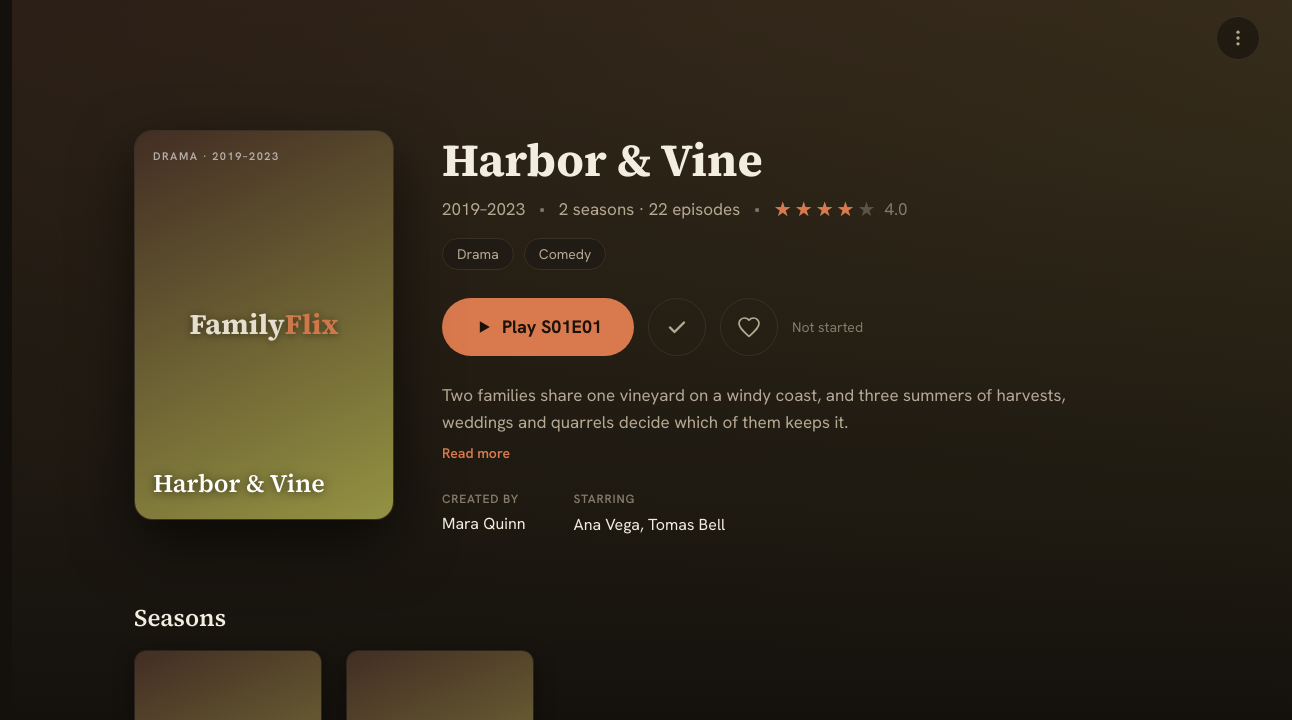
Test: SeriesDetail — the button and the progress line › opens the player on S01E01 for a show nobody has started
Step 1. Click the button "Play S01E01" → (538, 327), box left=442, top=298, right=634, bottom=356
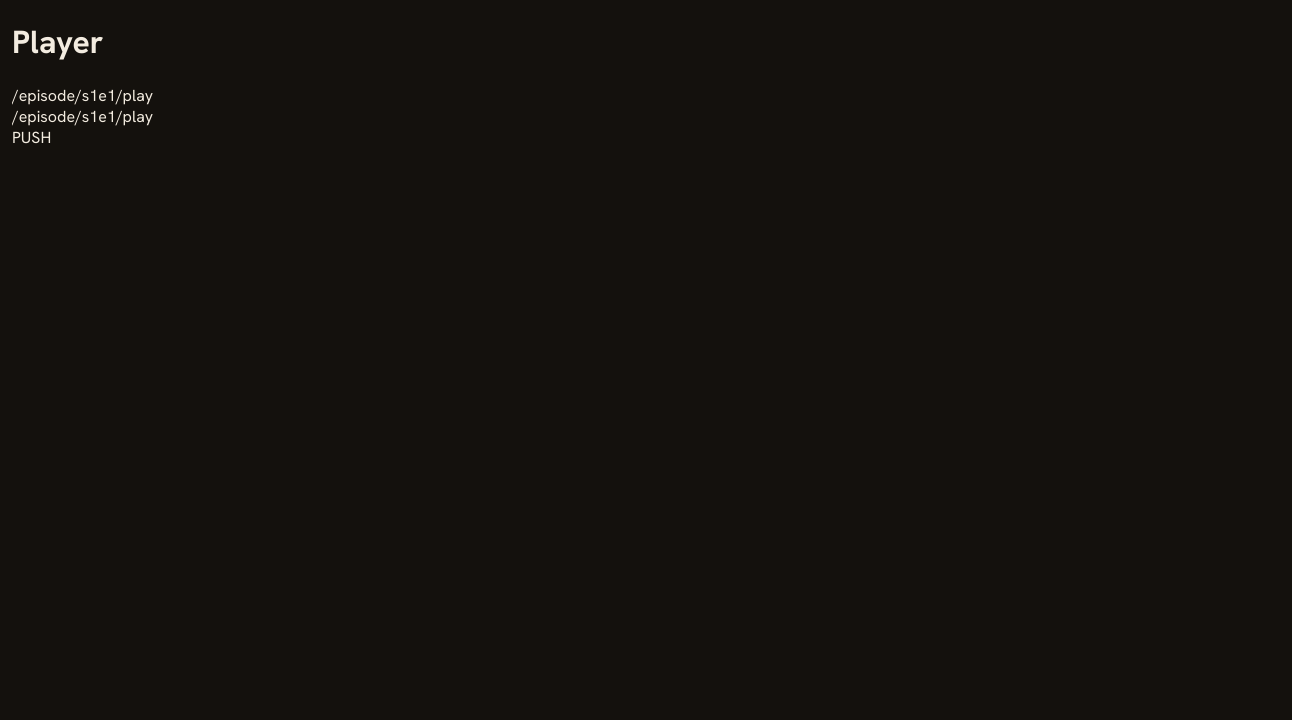
Result: the text with test id "pathname" reads "/episode/s1e1/play" at left=12, top=85, right=153, bottom=106
